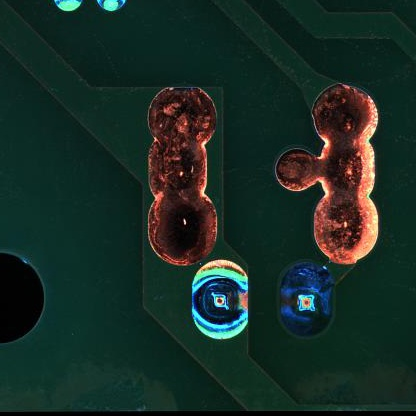spot: (191, 259, 249, 342), (279, 261, 333, 338)
